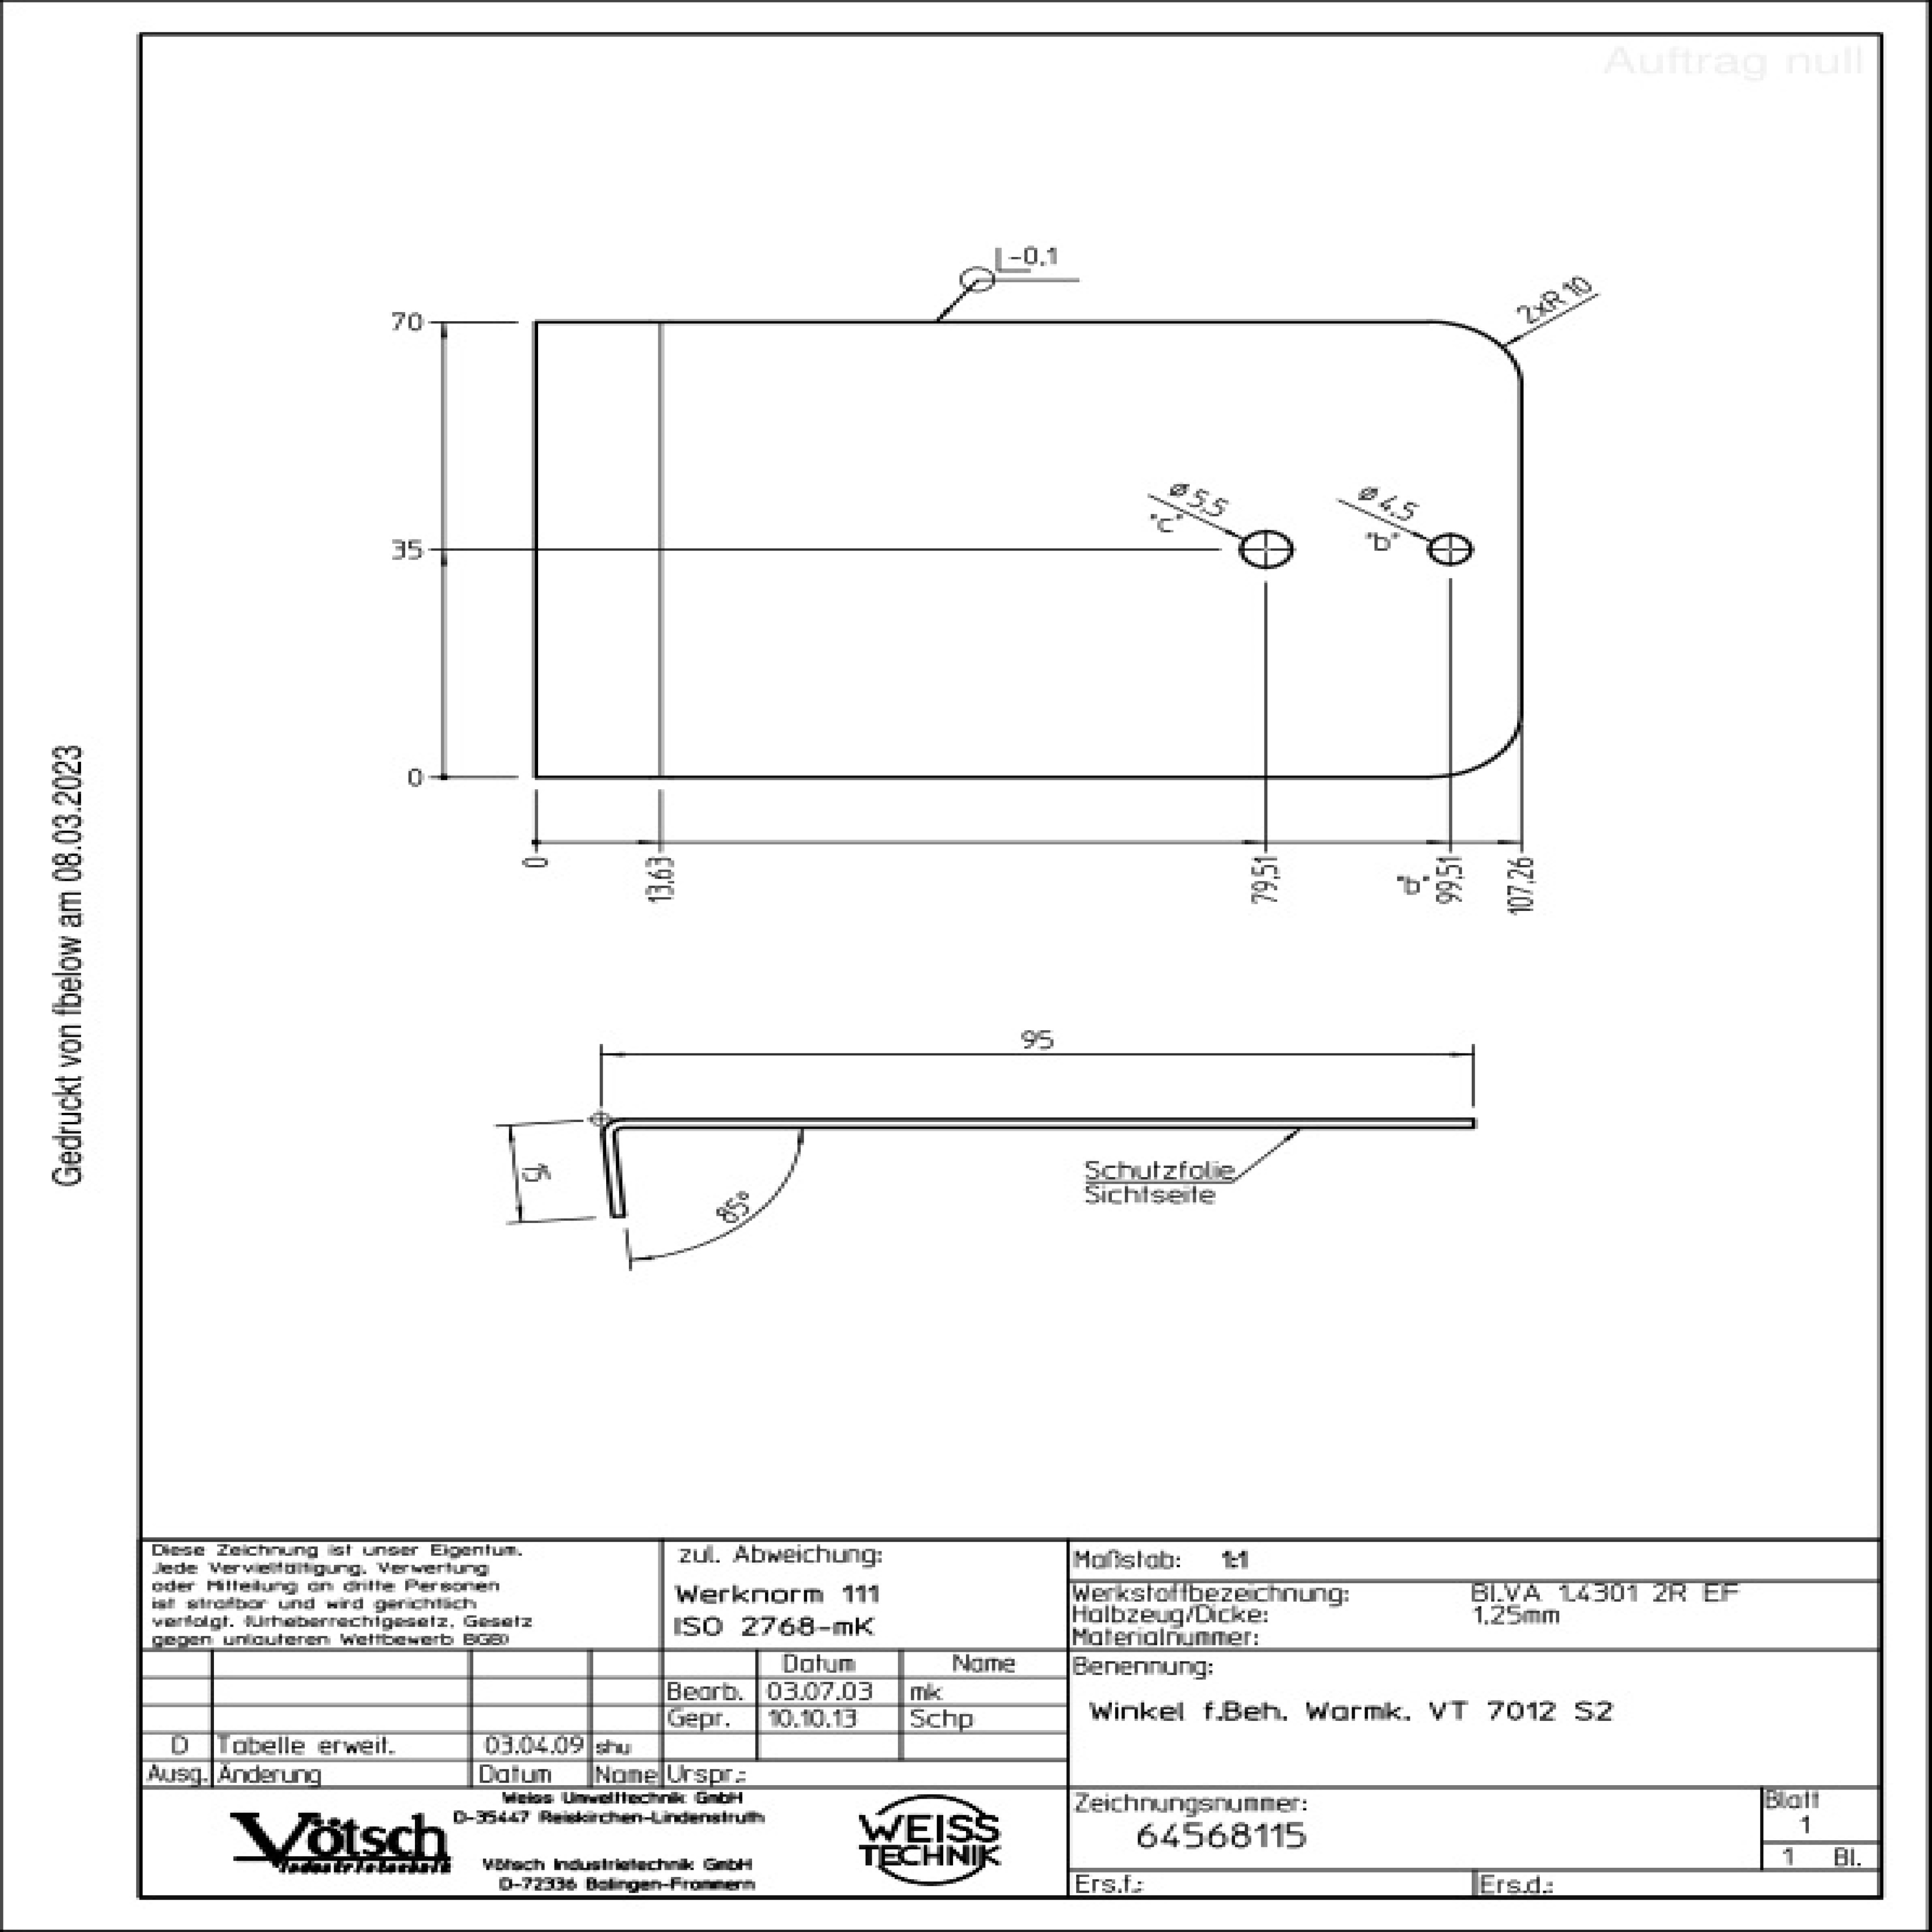InnerContour: (1237, 529, 1293, 571), (1426, 531, 1477, 570)
